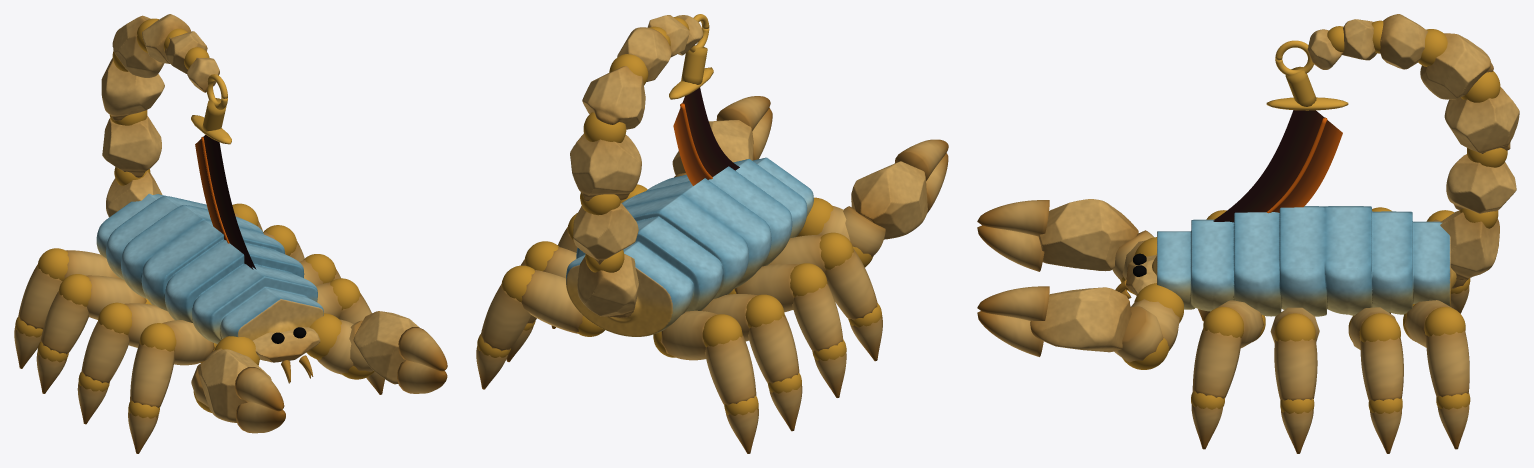
File: kharzul-sculpt.glb
3 renders of one model, left to right at view 1: azimuth 30°, elevation 25°; view 2: azimuth 150°, elevation 25°; view 3: azimuth 270°, elevation 25°, orthographic. The views are drawn at different scales.
Parts seen in each view (by area): view 1: kharzul_sculpt; view 2: kharzul_sculpt; view 3: kharzul_sculpt.
Part boxes in pixels (x1,y1,x2,y2): kharzul_sculpt: (14,14,447,453); kharzul_sculpt: (476,14,948,453); kharzul_sculpt: (977,14,1519,453).
Size of the model in its own units: 1.25 by 1.5 by 1.99.
